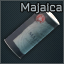Majaica coffee: (0, 0, 64, 64)
